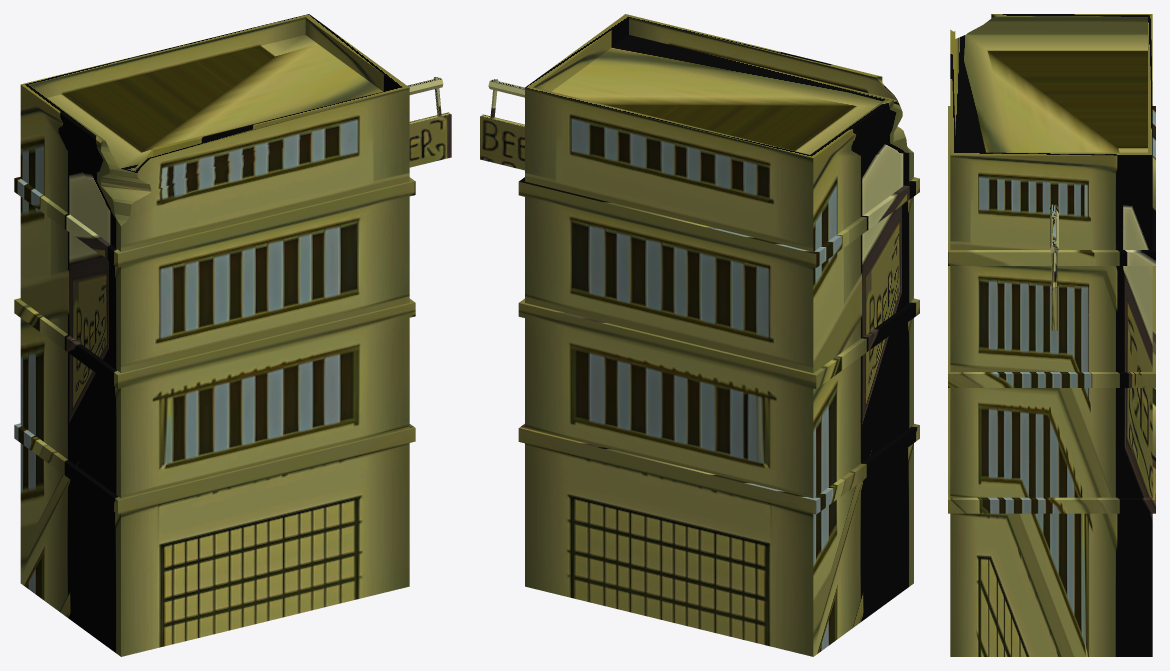
Rendered from House8.glb.
3 views of the same model, side by side, from view 1: azimuth 30°, elevation 25°; view 2: azimuth 150°, elevation 25°; view 3: azimuth 270°, elevation 25° (orthographic).
Parts seen in each view (by area): view 1: House8; view 2: House8; view 3: House8.
Part boxes in pixels (bbox=[...]): House8: bbox=[14, 14, 451, 656]; House8: bbox=[480, 14, 919, 656]; House8: bbox=[948, 14, 1155, 656].
Size of the model in its own units: 161 by 199 by 74.77.
Materials: 1 (1 with a texture image).
